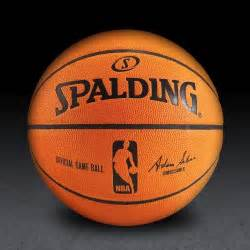basketball: (26, 28, 227, 229)
